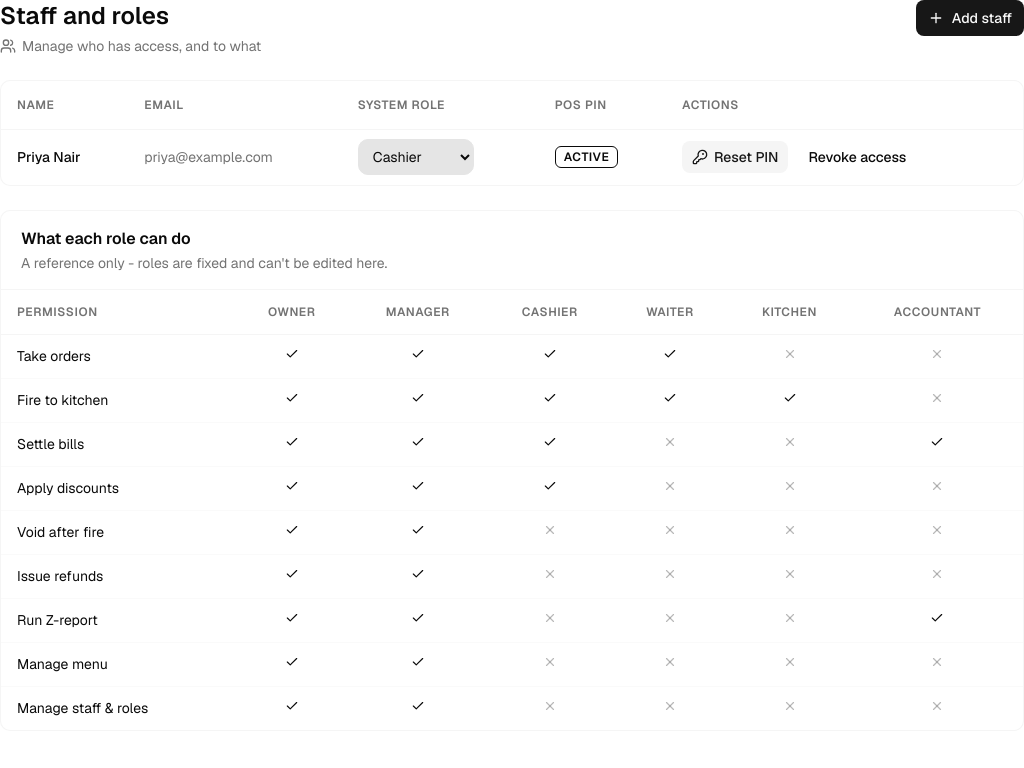
Staff › changing a row's role opens a confirm dialog and persists on confirm
Expected: the row with test id "staff-row-s1" is shown, [1,129,1023,185]
Select "Manager" in the dropdown with test id "staff-role-select-s1" at (416, 157), box [358,139,474,175]
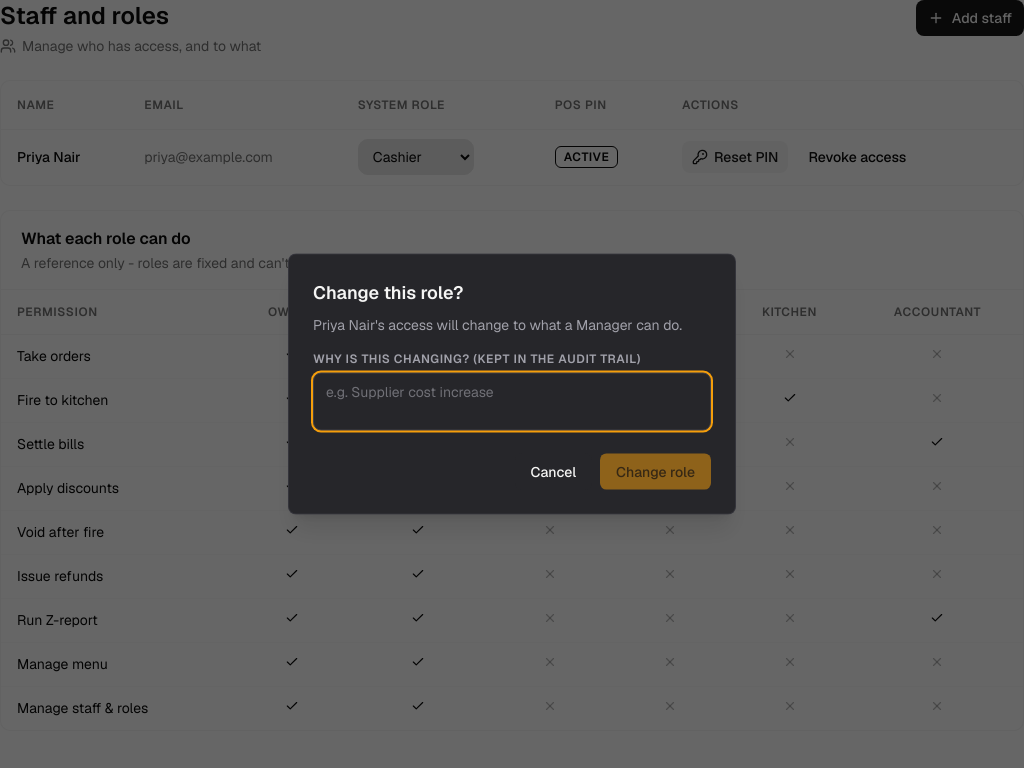
Expected: the text "Priya Nair's access will change to what a Manager can do." is shown, [313,314,711,334]
Type "Promoted to manager" into the text box with test id "confirm-reason" at (512, 402), box [313,372,711,430]
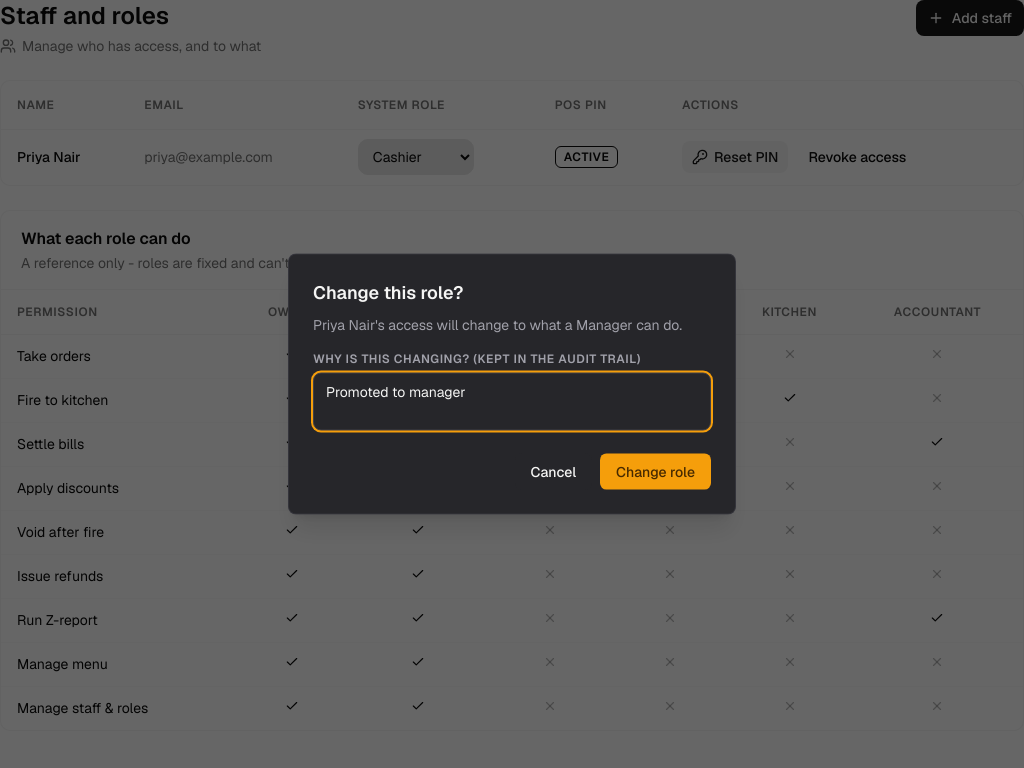
Click the button with test id "confirm-submit" at (656, 472), box [600,454,711,490]
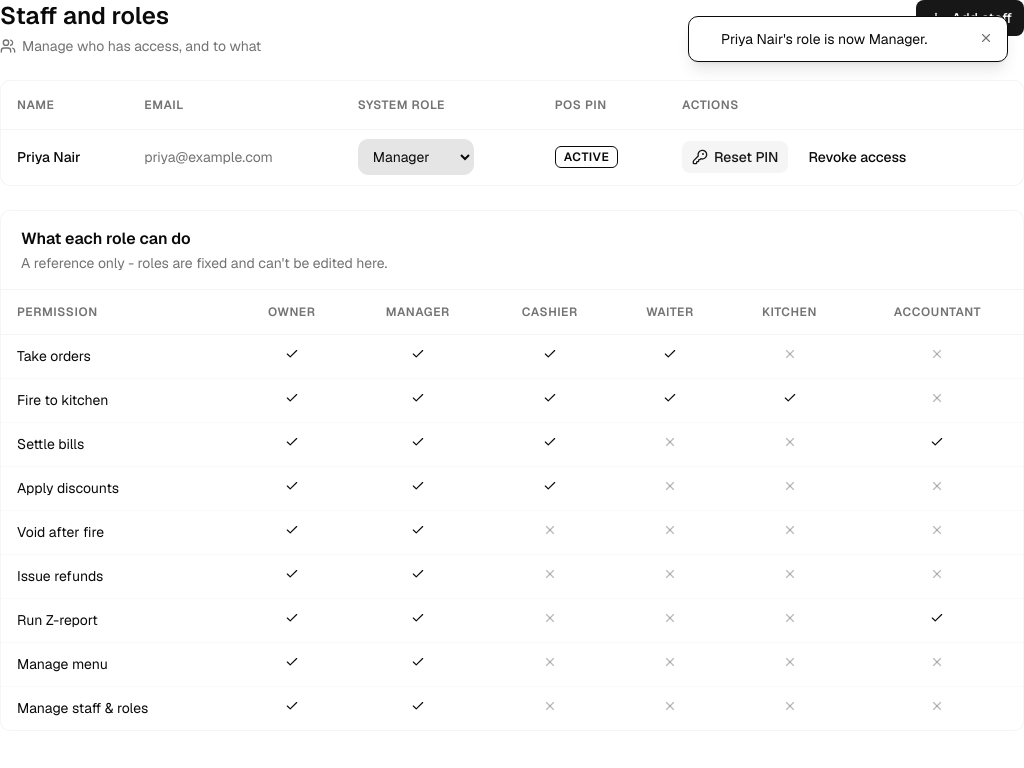
Expected: the dialog with test id "confirm-reason-dialog" is gone
Expected: the element with test id "toast-success" shows "Manager", [721,30,927,48]
